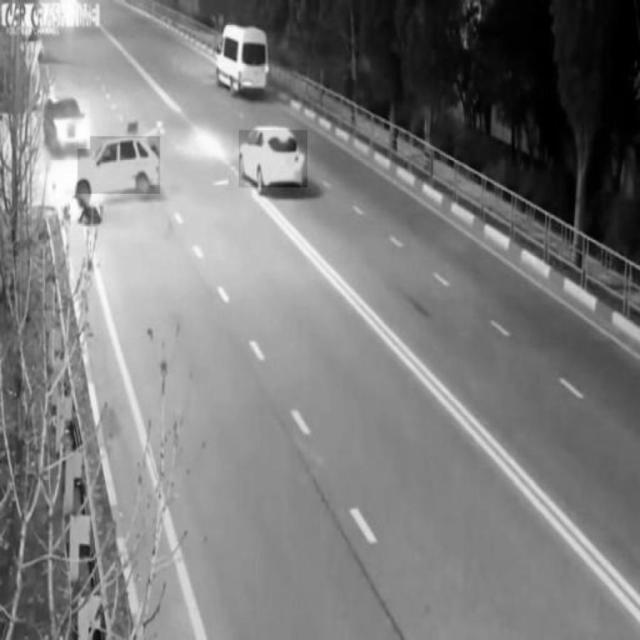vehicle: (78, 137, 160, 194), (239, 129, 307, 187), (216, 24, 270, 90), (43, 100, 90, 150)
